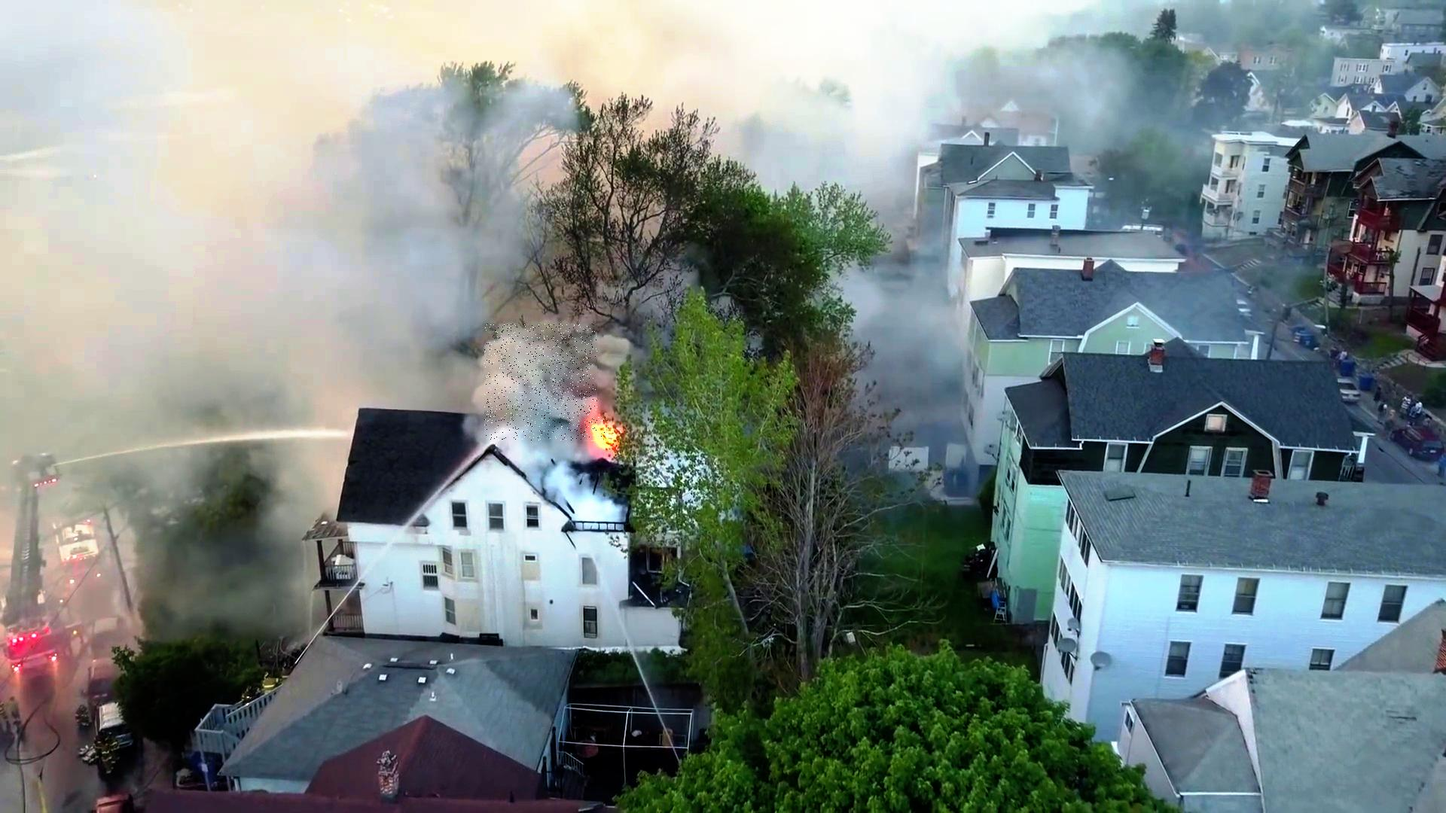fire: (584, 413, 611, 441)
smoke: (484, 324, 597, 441)
